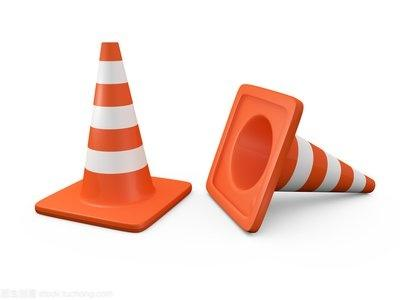cone_barrel: (203, 81, 375, 232), (68, 42, 163, 209)
